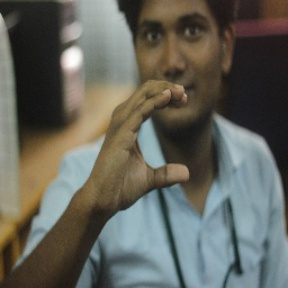C: (94, 73, 201, 205)
